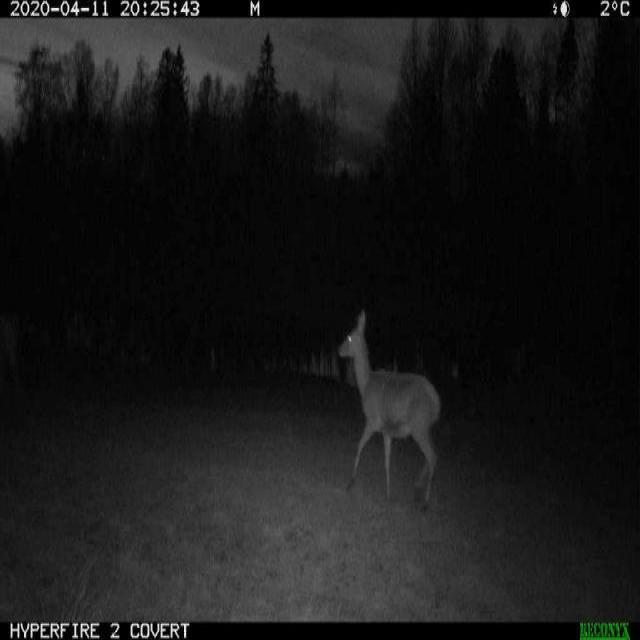deer: (329, 295, 446, 517), (20, 254, 119, 445)
